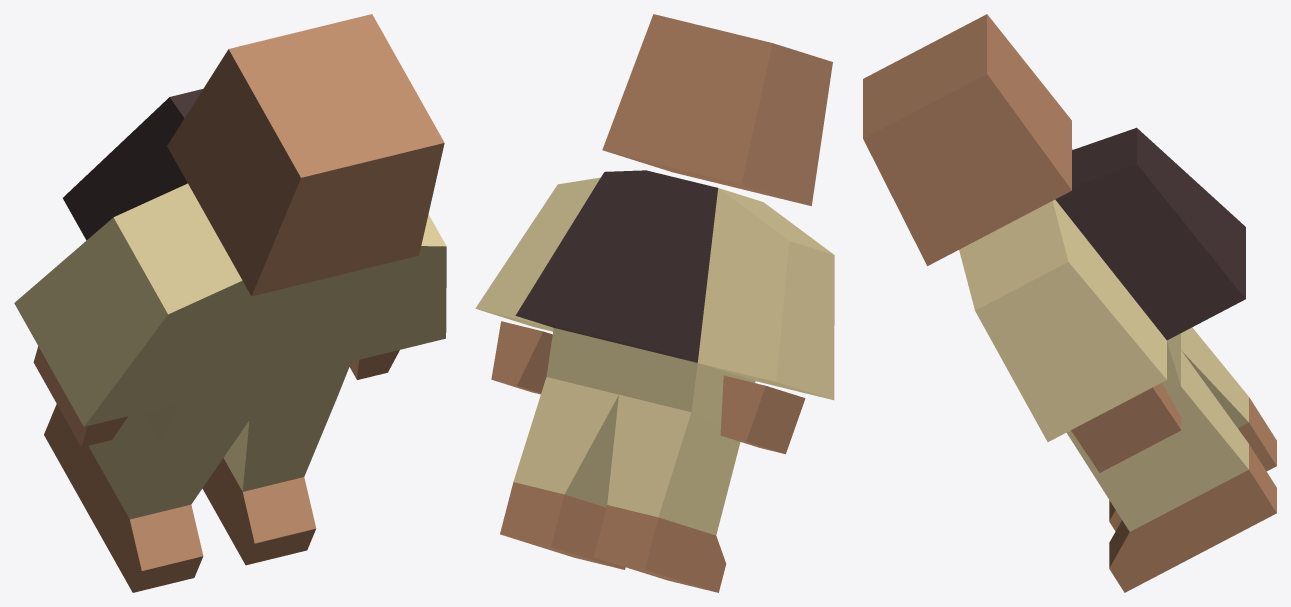
The model's file is Jetpackman.fbx.
The picture shows the model from 3 angles, left to right: view 1: azimuth 30°, elevation 25°; view 2: azimuth 150°, elevation 25°; view 3: azimuth 270°, elevation 25°; orthographic projection. The views are drawn at different scales.
Visible parts, largest first — view 1: Jetpackman; view 2: Jetpackman; view 3: Jetpackman.
Boxes of the visible parts, x1,y1,x2,y2 form: Jetpackman: (14, 14, 446, 592); Jetpackman: (475, 14, 834, 592); Jetpackman: (863, 14, 1276, 592).
Bounding box in the file's own units: 196 × 309 × 226.
